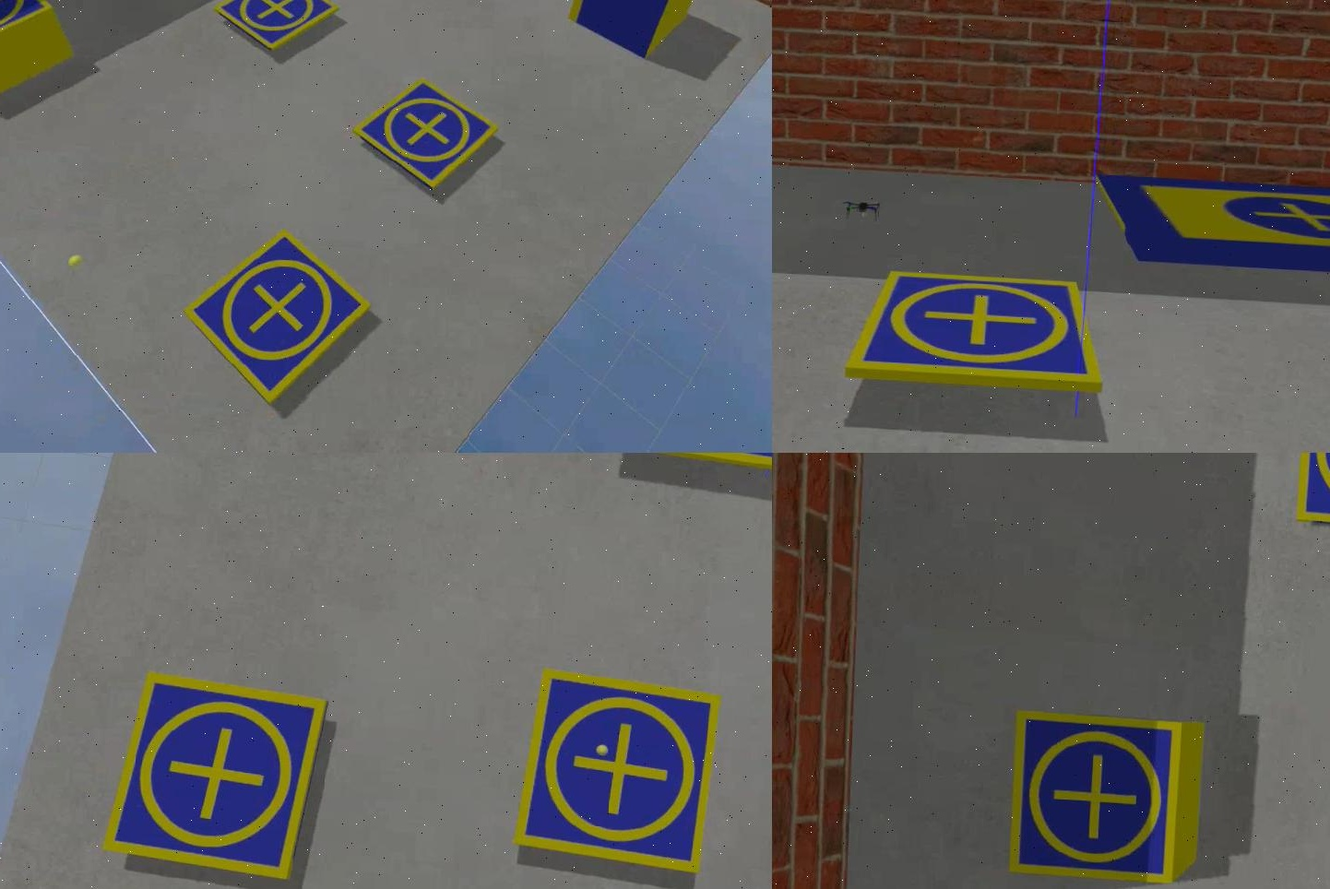large_base: (1090, 172, 1328, 286)
small_base: (100, 669, 329, 886), (511, 669, 719, 882), (174, 225, 376, 413), (839, 269, 1105, 395), (1003, 709, 1185, 889), (346, 75, 498, 195), (211, 1, 341, 56), (0, 1, 54, 65)
